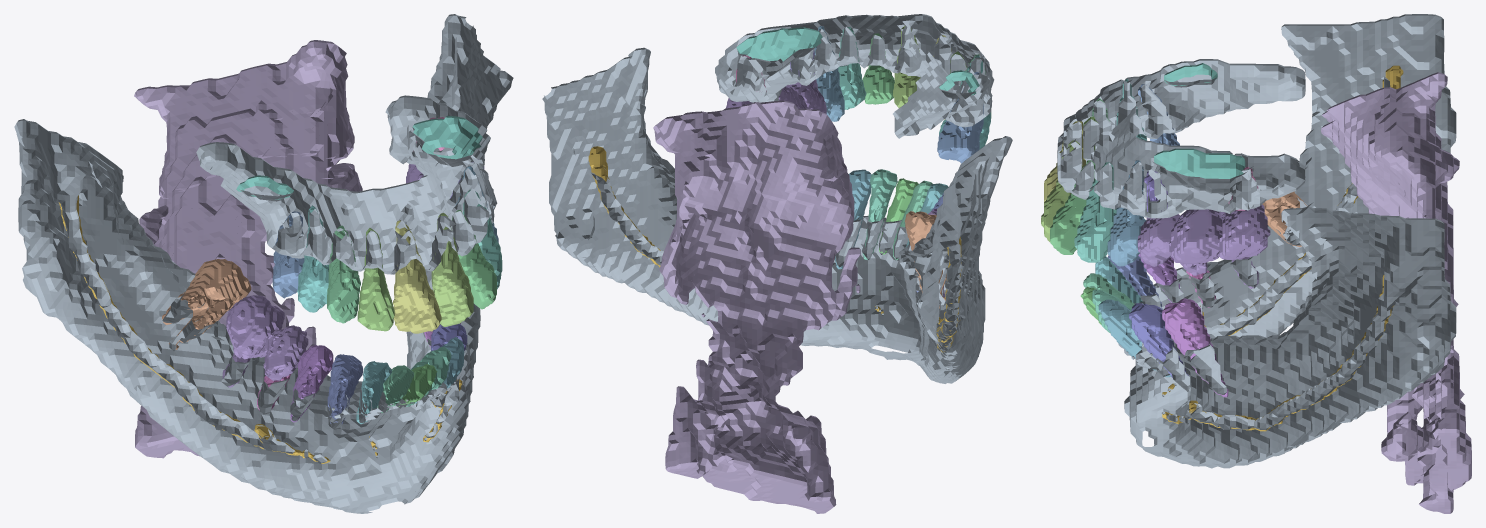
Rendered from ToothFairy3F_001.glb.
3 views of the same model, side by side, from view 1: azimuth 30°, elevation 25°; view 2: azimuth 150°, elevation 25°; view 3: azimuth 270°, elevation 25° (orthographic). The views are drawn at different scales.
Visible parts, largest first — view 1: jaws__1, airway__7, jaws__2, restorations__9, teeth__47, teeth__11, teeth__21, sinuses__5, teeth__12, teeth__13, teeth__14, teeth__43 (+12 smaller); view 2: airway__7, jaws__1, jaws__2, sinuses__5, teeth__15, teeth__32, teeth__22, teeth__23, teeth__24, teeth__47, teeth__33, restorations__9 (+4 smaller); view 3: jaws__1, jaws__2, airway__7, restorations__9, restorations__8, sinuses__5, teeth__23, teeth__35, teeth__34, teeth__24, teeth__22, teeth__33 (+9 smaller).
Boxes of the visible parts, x1,y1,x2,y2 form: jaws__1: (14, 14, 513, 513); airway__7: (134, 40, 362, 458); jaws__2: (196, 95, 497, 274); restorations__9: (226, 164, 423, 380); teeth__47: (162, 259, 251, 349); teeth__11: (393, 220, 441, 333); teeth__21: (431, 213, 473, 326); sinuses__5: (412, 115, 482, 159); teeth__12: (357, 228, 394, 331); teeth__13: (327, 225, 360, 323); teeth__14: (297, 205, 328, 312); teeth__43: (327, 354, 362, 424); airway__7: (653, 100, 860, 513); jaws__1: (542, 47, 1012, 383); jaws__2: (715, 14, 994, 138); sinuses__5: (736, 27, 822, 61); teeth__15: (937, 72, 983, 163); teeth__32: (862, 169, 897, 259); teeth__22: (862, 33, 894, 104); teeth__23: (838, 27, 866, 109); teeth__24: (814, 26, 844, 121); teeth__47: (904, 211, 946, 308); teeth__33: (835, 169, 871, 269); restorations__9: (726, 79, 936, 214); jaws__1: (1118, 14, 1456, 468); jaws__2: (1057, 59, 1305, 218); airway__7: (1321, 72, 1471, 513); restorations__9: (1137, 204, 1270, 275); restorations__8: (1169, 209, 1222, 264); sinuses__5: (1154, 148, 1245, 178); teeth__23: (1074, 162, 1116, 262); teeth__35: (1162, 298, 1228, 397); teeth__34: (1129, 303, 1188, 377); teeth__24: (1107, 160, 1145, 266); teeth__22: (1050, 160, 1095, 254); teeth__33: (1098, 299, 1170, 377).
Bounding box in the file's own units: 100 × 78.23 × 85.55.
